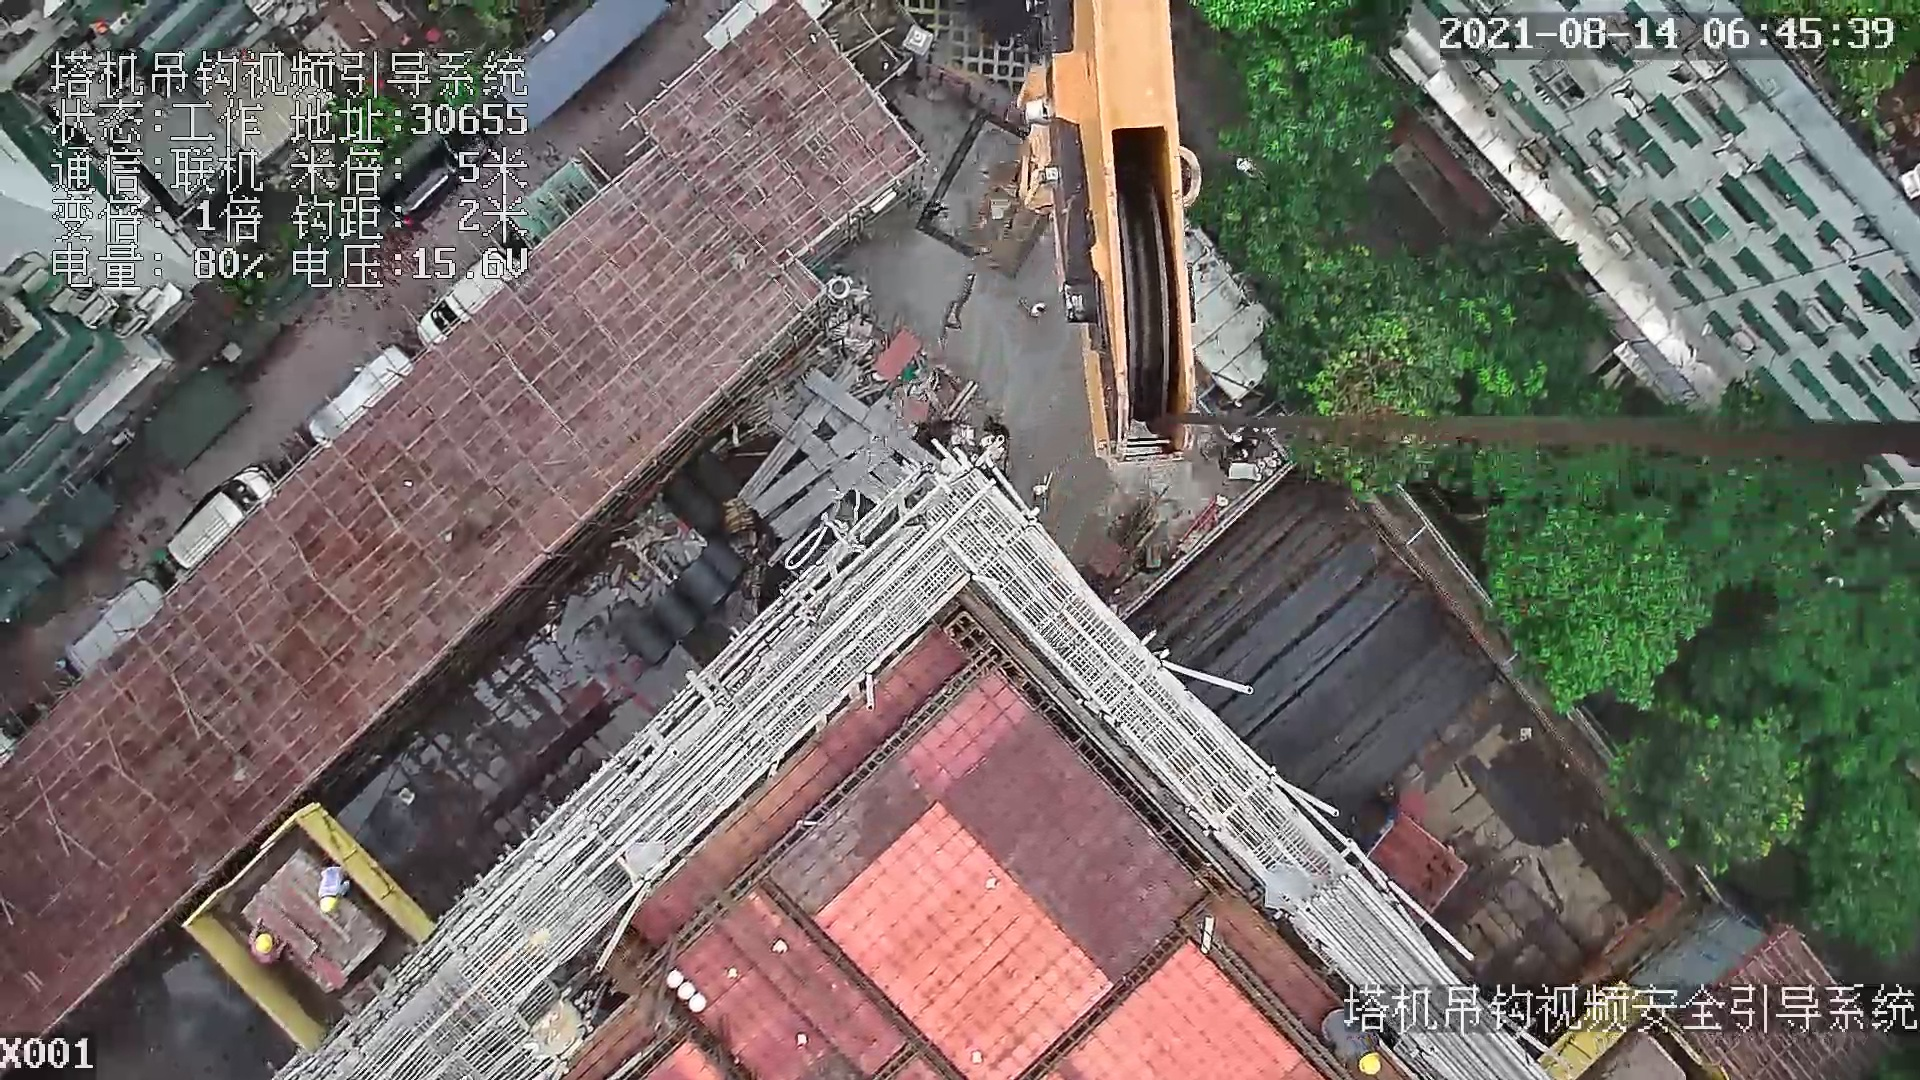helmet: (1356, 1052, 1382, 1075), (254, 930, 277, 952), (317, 895, 341, 911)
hook: (996, 1, 1206, 467)
person: (1319, 1003, 1390, 1080), (308, 859, 356, 912), (241, 919, 291, 965), (1028, 300, 1048, 323)
